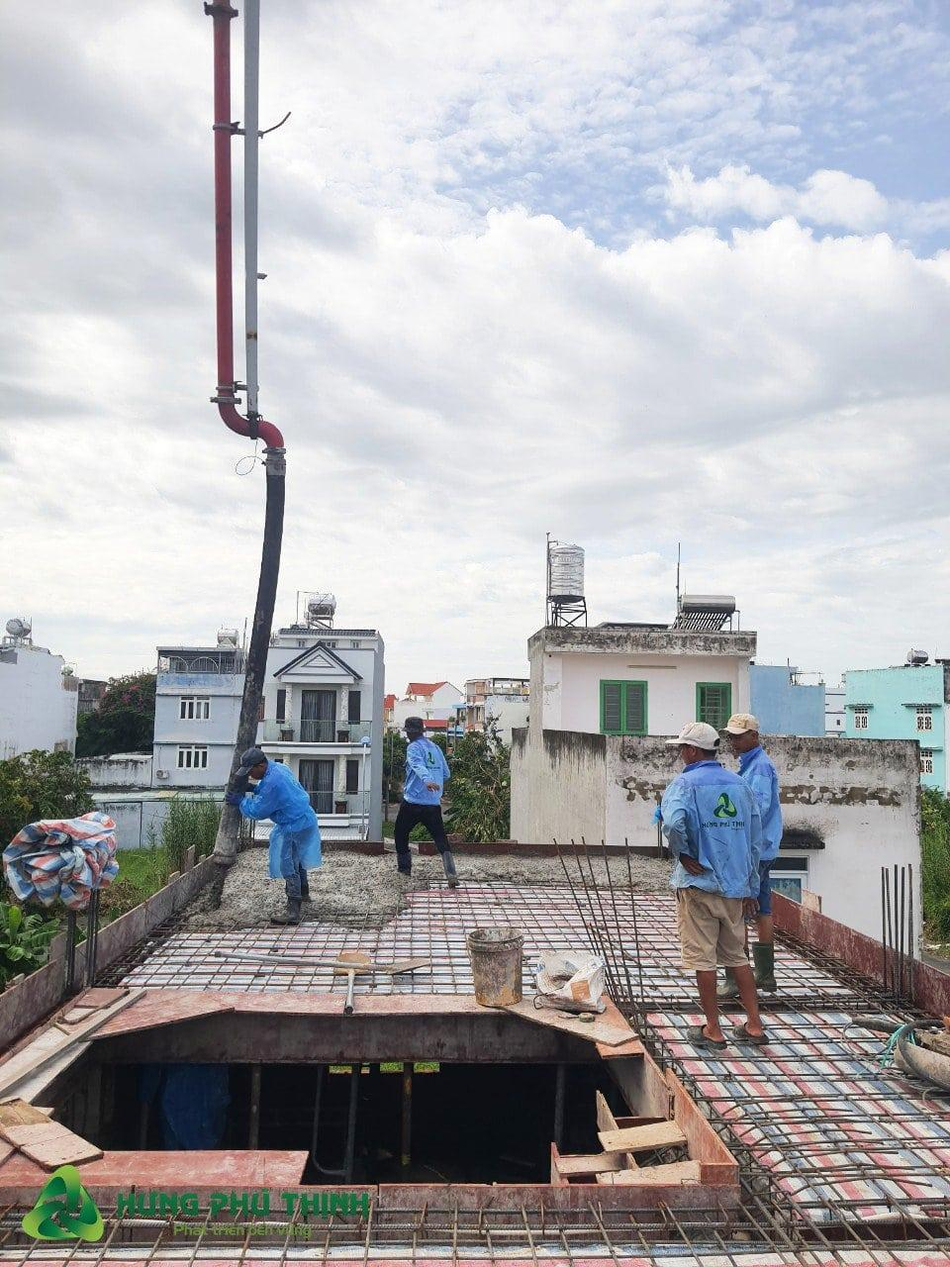Gloves: (222, 785, 244, 809)
Helmet: (665, 721, 719, 751), (230, 744, 264, 777), (723, 712, 760, 734), (400, 712, 429, 737)
Person: (652, 720, 769, 1048), (715, 712, 783, 1000), (224, 745, 323, 926), (393, 716, 458, 888)
Safety Boot: (750, 941, 776, 991), (440, 851, 460, 887), (268, 903, 300, 924), (396, 853, 415, 875)
bare-arms: (673, 849, 703, 876), (742, 894, 763, 919), (423, 777, 442, 797)
no-boot: (686, 1018, 732, 1050), (727, 1022, 771, 1049)
no-vest: (661, 760, 765, 900), (242, 761, 301, 824), (401, 736, 450, 806)
